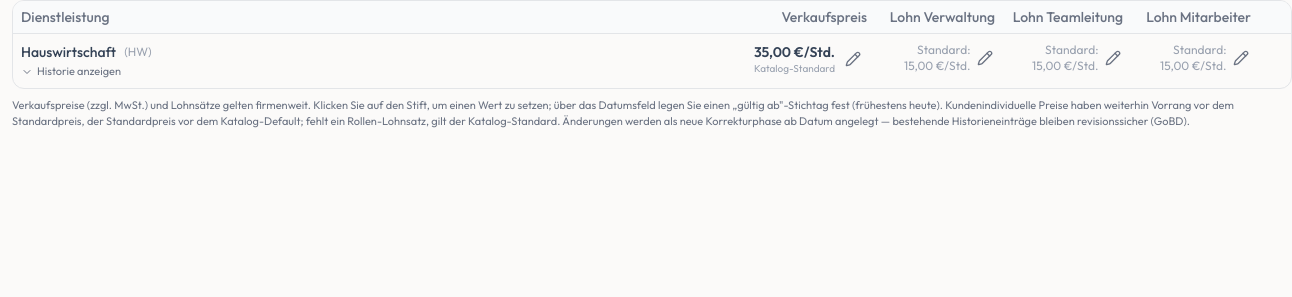
Scenario: ServiceEconomicsSection — Lohn nur für Superadmin (Task #1511) › Superadmin: aufgeklappte Historie zeigt den Lohn-Block
Check: the element with test id "service-economics-section" is shown, box [12, 0, 1291, 130]
Click the button "Historie anzeigen" at [71, 72], box [21, 64, 121, 80]
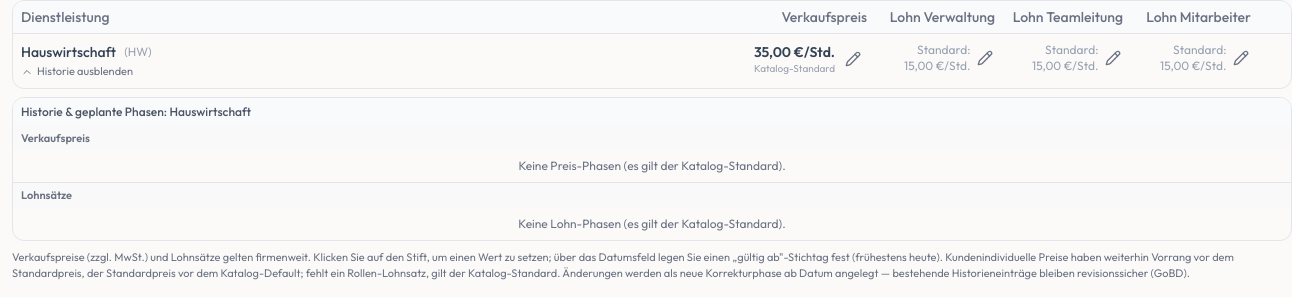
Check: the text "Lohnsätze" is shown, box [13, 182, 1291, 208]
